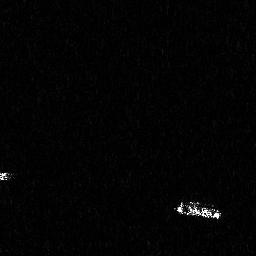ship: (172, 197, 223, 220)
